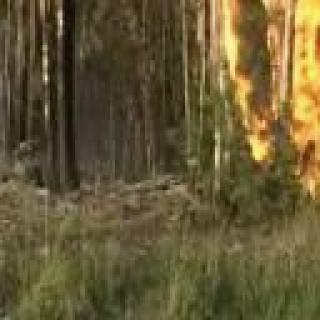fire: (190, 0, 320, 175), (314, 189, 320, 249)
